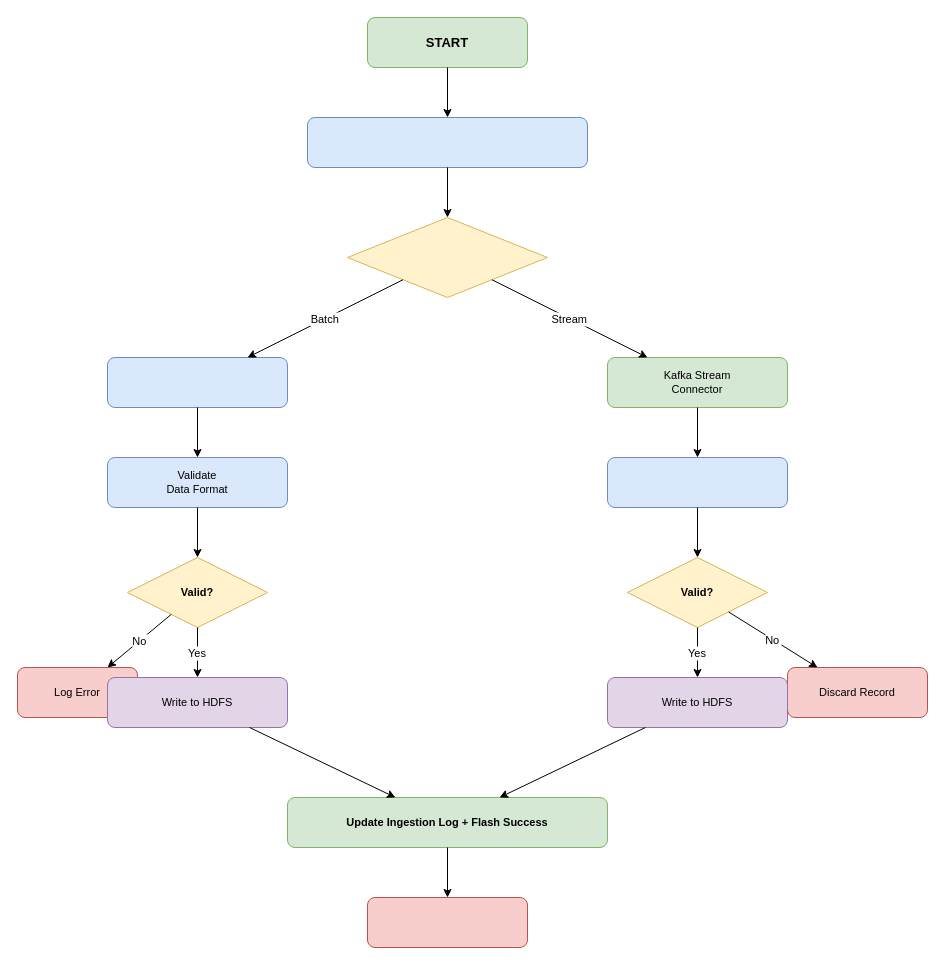
Image size: 945x965. Some labels were removed from this diagram. Each missing label, with the box of its shape:
Admin / Analyst Selects Dataset Type: (306, 116, 588, 168)
Buffer & Validate: (606, 456, 788, 508)
END: (366, 896, 528, 948)
Source Type?: (346, 216, 548, 298)
Upload CSV / Parquet File: (106, 356, 288, 408)
